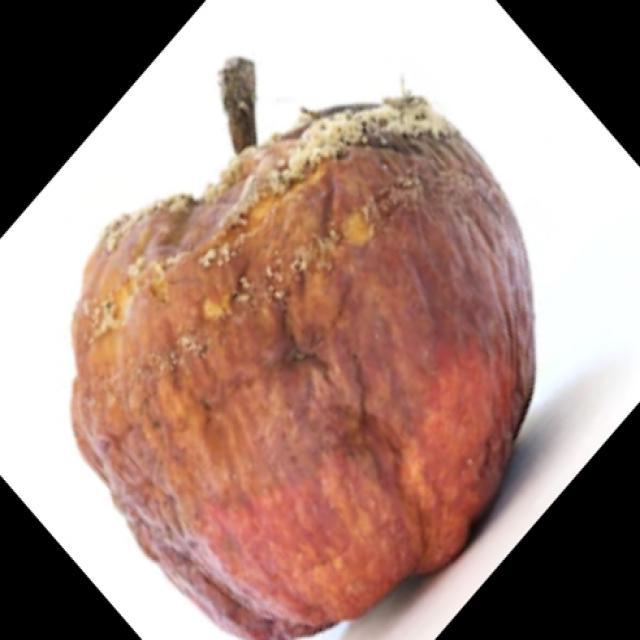Rotten: (85, 92, 522, 608)
